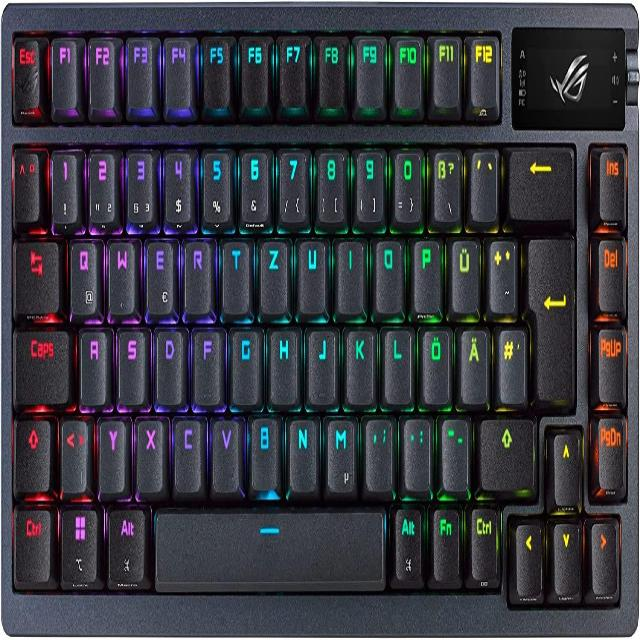0: (392, 149, 421, 225)
1: (50, 147, 78, 224)
2: (85, 148, 118, 229)
3: (125, 148, 157, 229)
4: (162, 147, 195, 228)
5: (199, 147, 232, 228)
6: (238, 147, 271, 228)
7: (276, 144, 309, 225)
8: (315, 144, 347, 226)
9: (353, 144, 385, 226)
a: (78, 325, 108, 406)
accent: (469, 145, 498, 222)
ae: (458, 324, 488, 404)
alt-left: (106, 502, 146, 585)
altgr-right: (394, 502, 424, 584)
b: (249, 412, 279, 491)
c: (173, 412, 202, 492)
caret: (11, 142, 39, 223)
comma: (364, 412, 393, 492)
d: (153, 322, 184, 404)
del: (506, 141, 573, 222)
e: (145, 234, 174, 314)
enter: (524, 231, 576, 406)
f: (191, 322, 222, 404)
g: (229, 323, 262, 405)
h: (267, 323, 300, 405)
hash: (495, 321, 526, 403)
i: (334, 234, 364, 313)
j: (304, 321, 338, 404)
k: (343, 323, 376, 405)
keyboard: (0, 2, 639, 636)
l: (381, 322, 413, 404)
less: (60, 413, 88, 492)
m: (324, 412, 356, 495)
minus: (440, 413, 469, 492)
n: (286, 413, 318, 492)
o: (372, 234, 403, 313)
oe: (419, 323, 451, 405)
p: (411, 234, 440, 312)
plus: (487, 233, 517, 313)
point: (402, 413, 431, 492)
q: (69, 234, 99, 316)
r: (182, 235, 212, 313)
s: (116, 322, 146, 404)
shift-left: (13, 413, 51, 493)
shift-lock: (14, 325, 71, 404)
shift-right: (477, 412, 535, 492)
space: (151, 504, 387, 589)
ss: (431, 147, 460, 223)
strg-left: (12, 503, 51, 584)
strg-right: (468, 502, 499, 584)
t: (221, 235, 251, 313)
tab: (13, 235, 60, 313)
u: (296, 233, 328, 314)
ue: (448, 233, 479, 314)
v: (211, 413, 241, 492)
w: (107, 236, 136, 316)
x: (135, 412, 165, 493)
y: (97, 413, 127, 492)
z: (258, 234, 289, 314)
